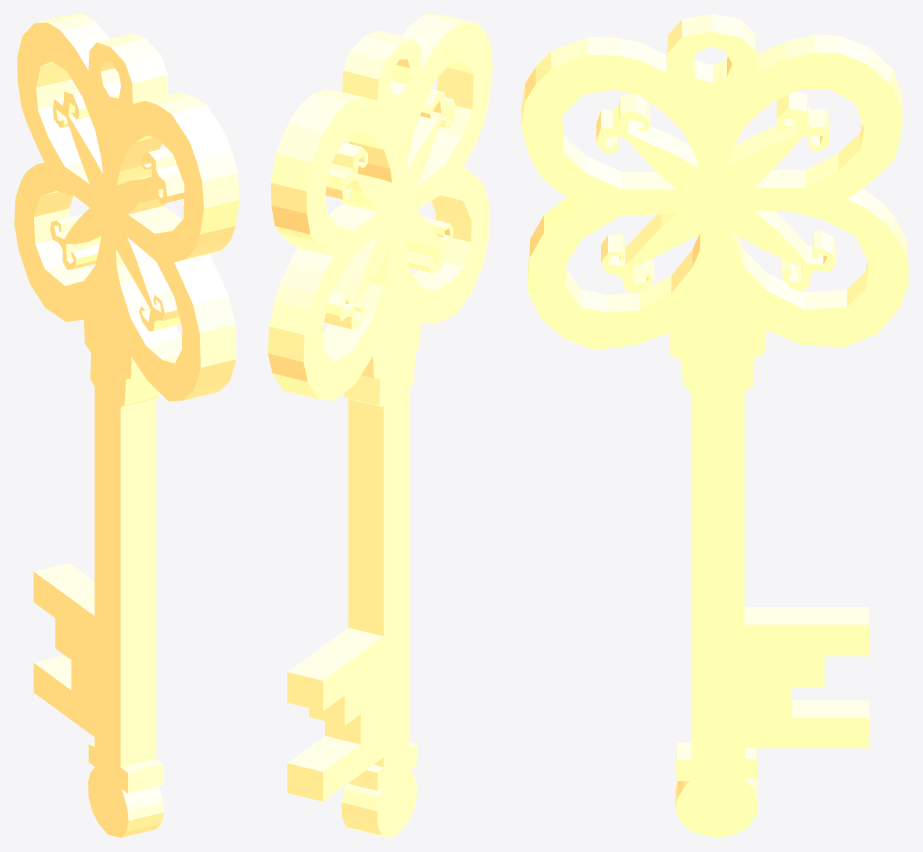
The model's file is GoldKey.fbx.
3 views of the same model, side by side, from view 1: azimuth 30°, elevation 25°; view 2: azimuth 150°, elevation 25°; view 3: azimuth 270°, elevation 25° (orthographic). The views are drawn at different scales.
Visible parts, largest first — view 1: Circle; view 2: Circle; view 3: Circle.
Part boxes in pixels (<box>): Circle: <box>14,14,239,837</box>; Circle: <box>268,14,492,837</box>; Circle: <box>521,14,908,837</box>.
Size of the model in its own units: 21.6 by 457 by 199.
